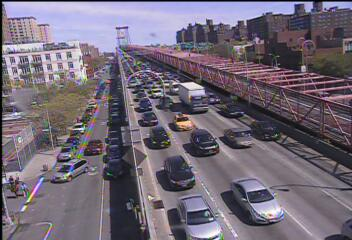neg: (29, 34, 62, 78), (150, 159, 181, 200), (268, 165, 296, 201), (172, 102, 199, 139), (109, 21, 136, 57), (309, 89, 336, 124), (310, 146, 335, 180), (128, 115, 152, 146), (265, 85, 288, 116), (66, 56, 89, 85), (208, 27, 229, 55), (276, 43, 296, 69), (56, 156, 75, 182), (169, 42, 188, 67), (216, 183, 234, 207), (79, 134, 96, 156), (15, 118, 32, 140), (297, 33, 312, 54), (237, 128, 249, 144), (143, 32, 154, 46)
pos: (12, 177, 24, 192)
